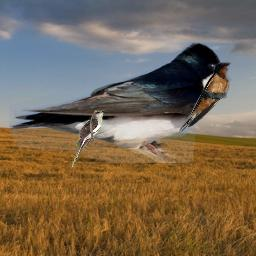Cuckoo: (72, 110, 106, 167)
Swallow: (9, 42, 228, 163), (177, 61, 232, 132)
